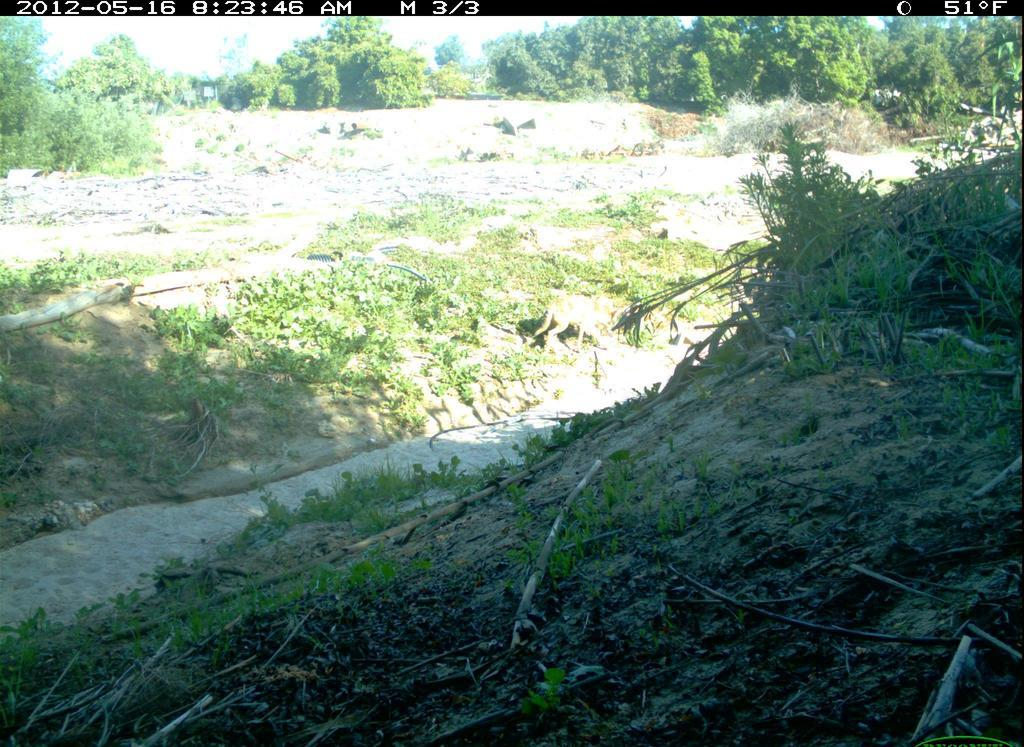coyote: (527, 286, 634, 363)
